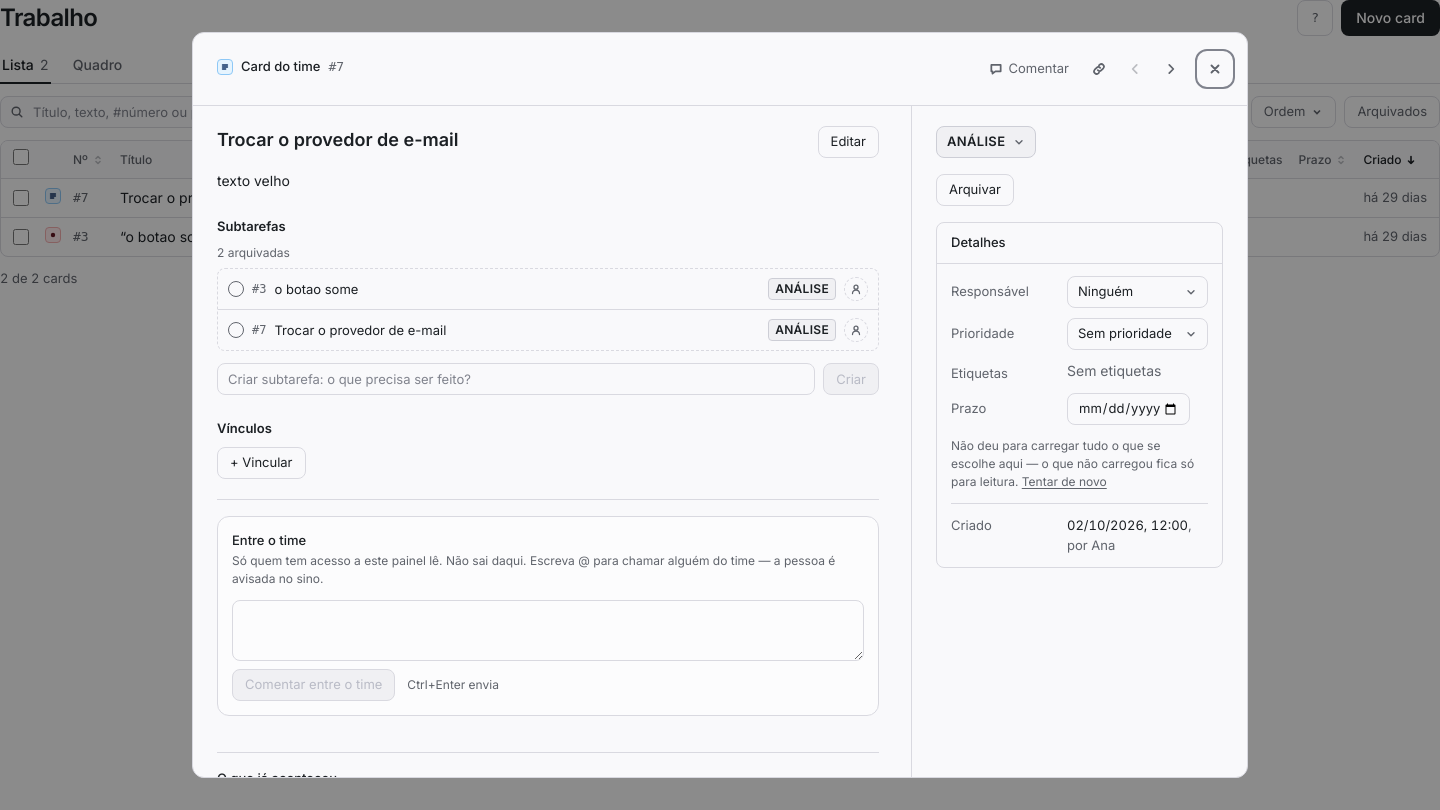
card do time e arquivar › editar grava titulo e descricao, e a tela passa a mostrar o novo
Check: the text "texto velho" is shown, box 217,172 -> 290,189
Click the button "Editar" at (848, 142), box 818,126 -> 879,158
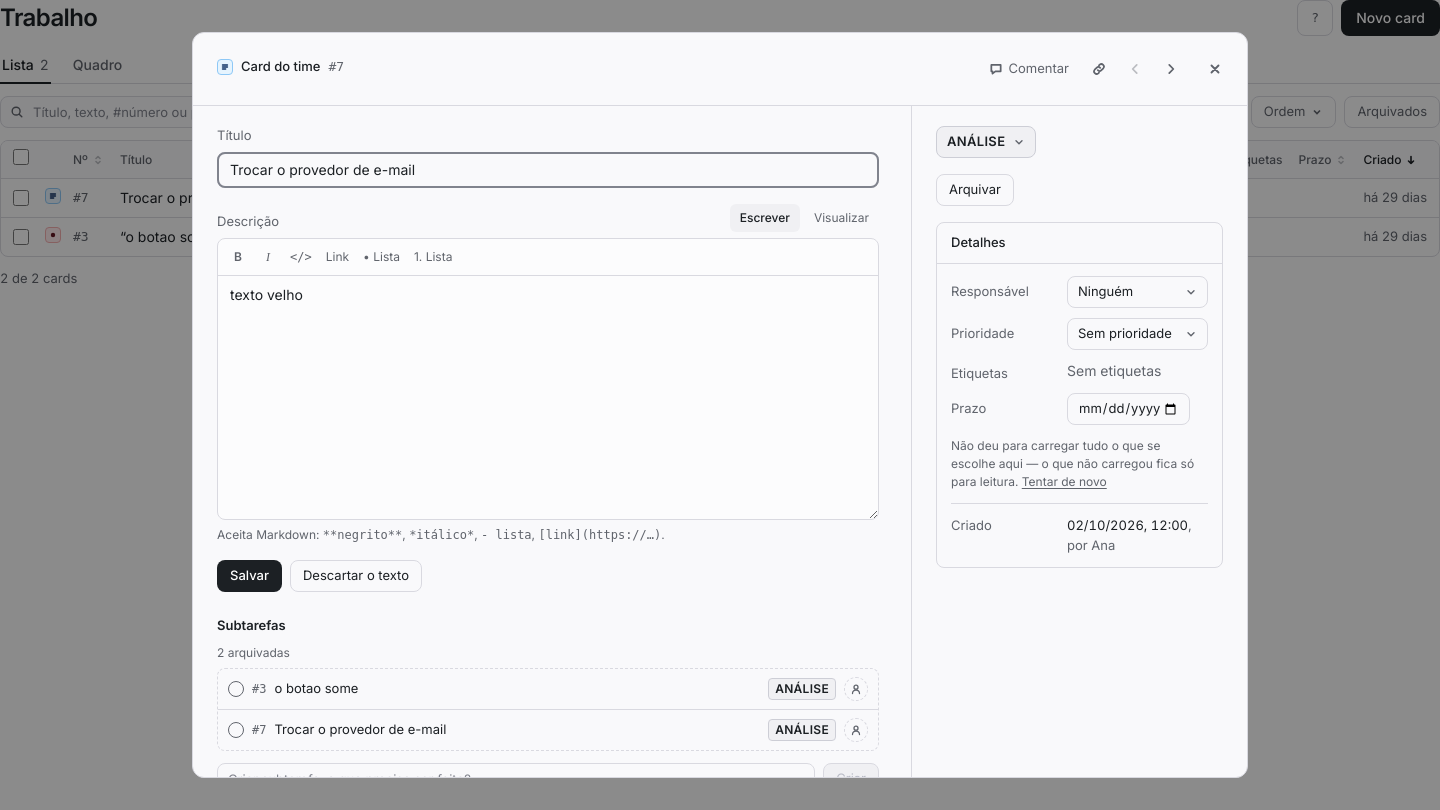
Replace the text in the field labelled "Título" with "Trocar o provedor antes de sexta" at (548, 170), box 217,152 -> 879,188
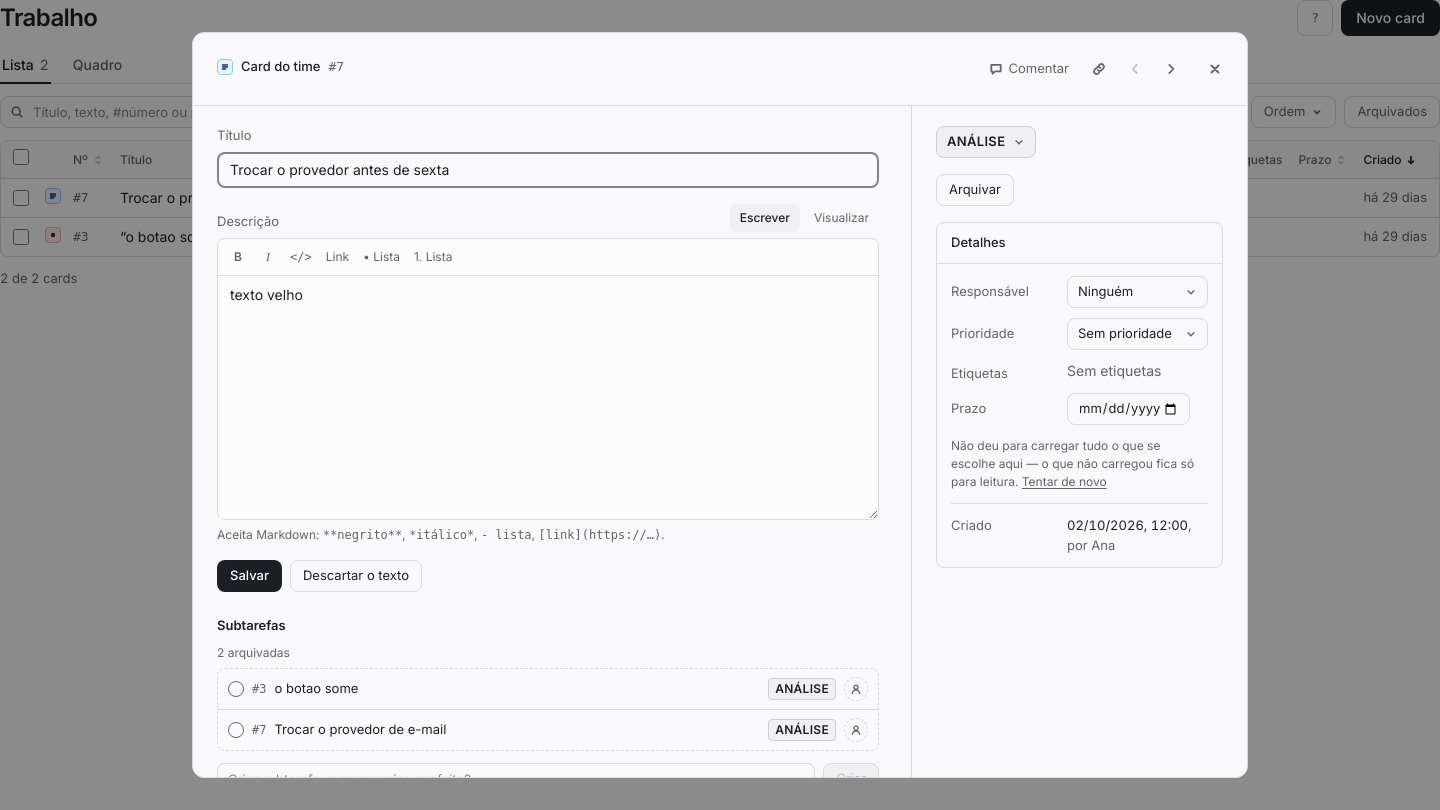
Replace the text in the text box labelled "Descrição" with "texto novo" at (548, 397), box 218,276 -> 878,519
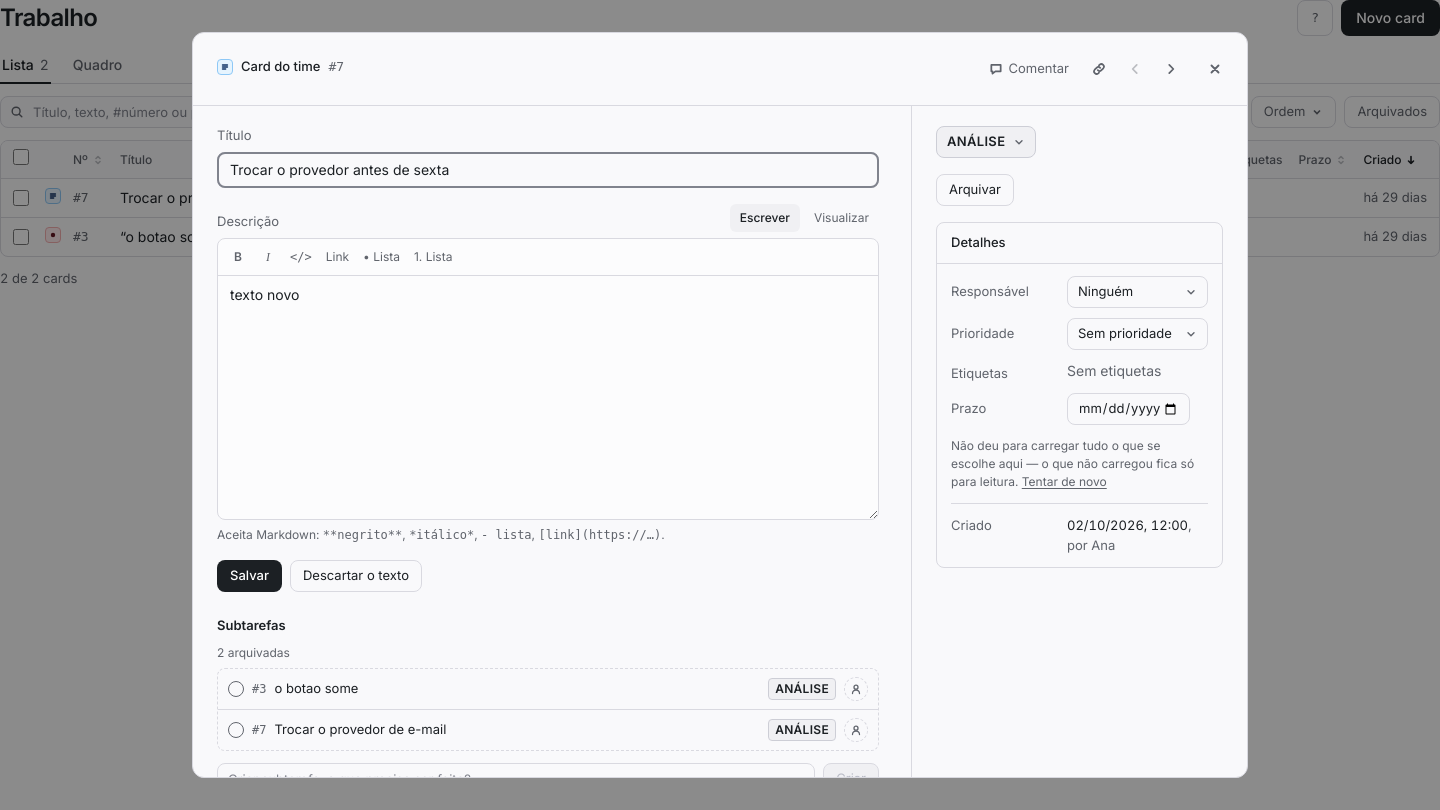
Click the button "Salvar" at (250, 576), box 217,560 -> 282,592
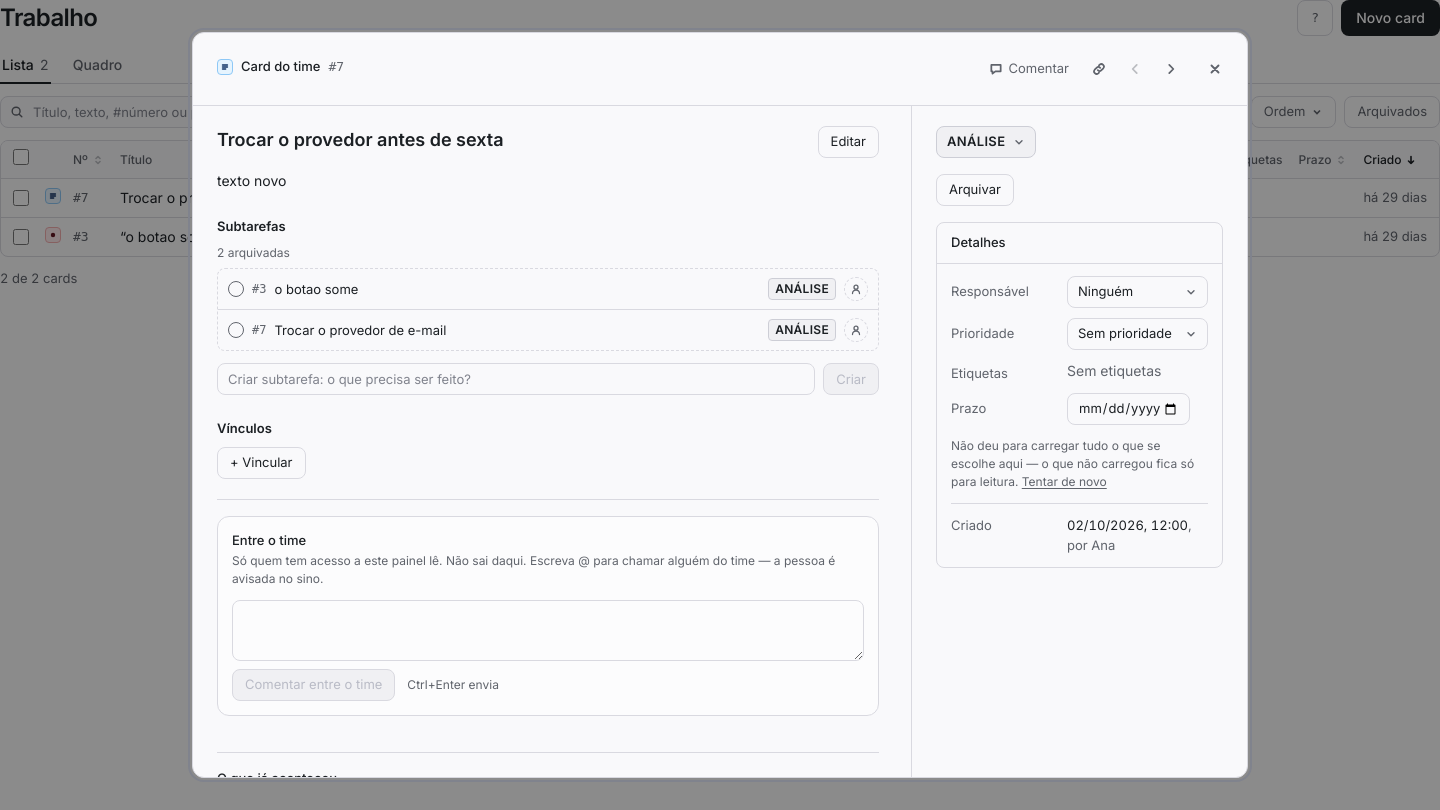
Check: the heading "Trocar o provedor antes de sexta" is shown, box 217,126 -> 504,154
Check: the text "texto novo" is shown, box 217,172 -> 286,189
